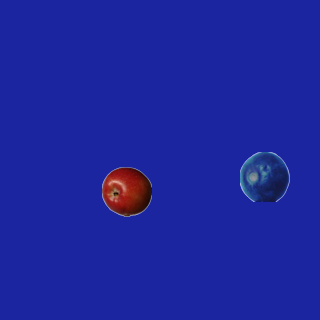Apple Braeburn: (101, 166, 151, 216)
Huckleberry: (239, 151, 289, 201)
